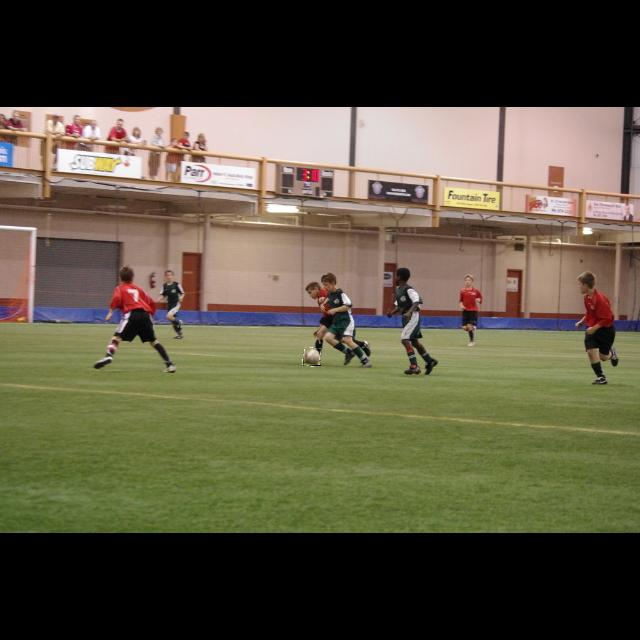Football: (303, 348, 321, 366)
